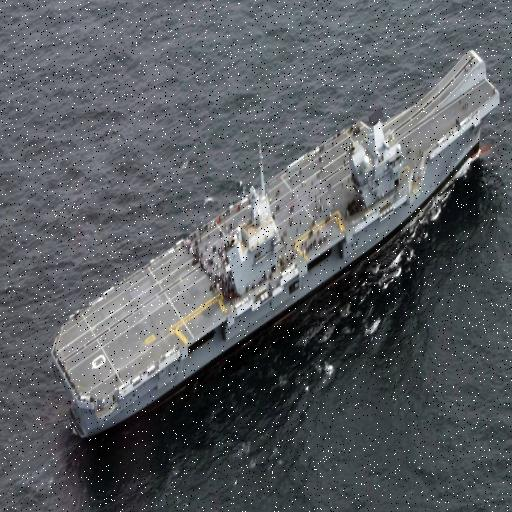Portanaves: (50, 41, 505, 444)
